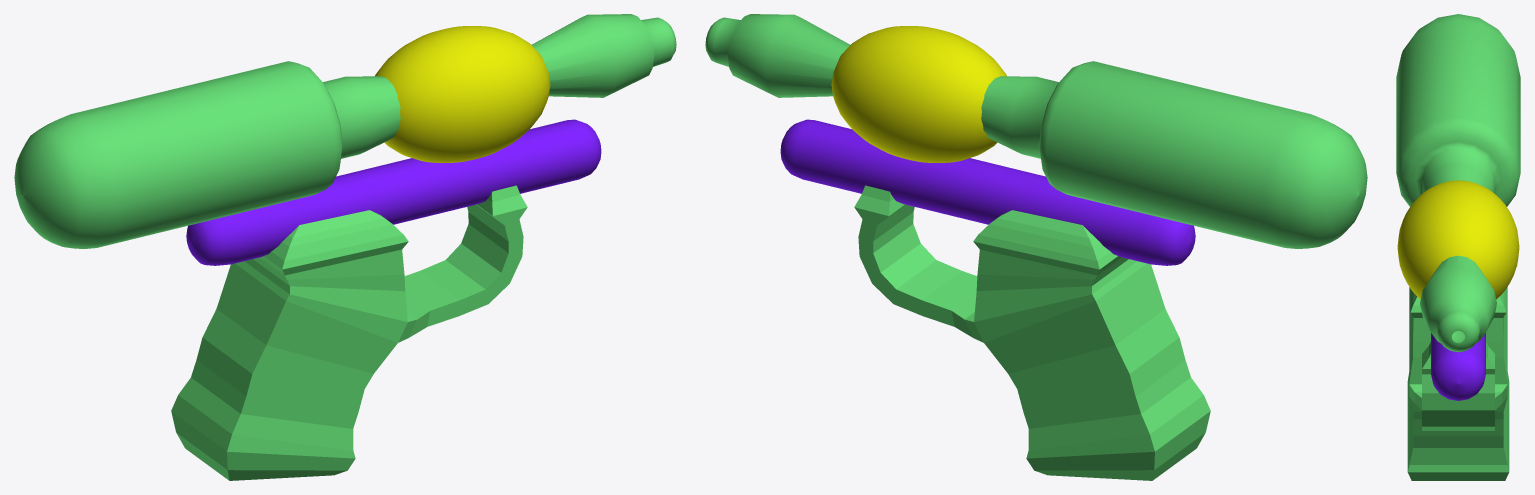
File: water gun.fbx
3 renders of one model, left to right at view 1: azimuth 30°, elevation 25°; view 2: azimuth 150°, elevation 25°; view 3: azimuth 270°, elevation 25°, orthographic. The views are drawn at different scales.
Visible parts, largest first — view 1: Cylinder, Cube, Cylinder.001, Sphere; view 2: Cylinder, Cube, Cylinder.001, Sphere; view 3: Cylinder, Cube, Sphere, Cylinder.001.
Part boxes in pixels (x1,y1,x2,y2): Cylinder: (14, 14, 676, 248); Cube: (171, 185, 527, 480); Cylinder.001: (186, 119, 601, 265); Sphere: (375, 26, 550, 162); Cylinder: (705, 14, 1367, 248); Cube: (854, 185, 1210, 480); Cylinder.001: (780, 119, 1195, 265); Sphere: (831, 26, 1006, 162); Cylinder: (1396, 14, 1520, 352); Cube: (1407, 287, 1509, 480); Sphere: (1397, 180, 1519, 299); Cylinder.001: (1431, 333, 1485, 400).
Bounding box in the file's own units: 184 × 107 × 33.66.
